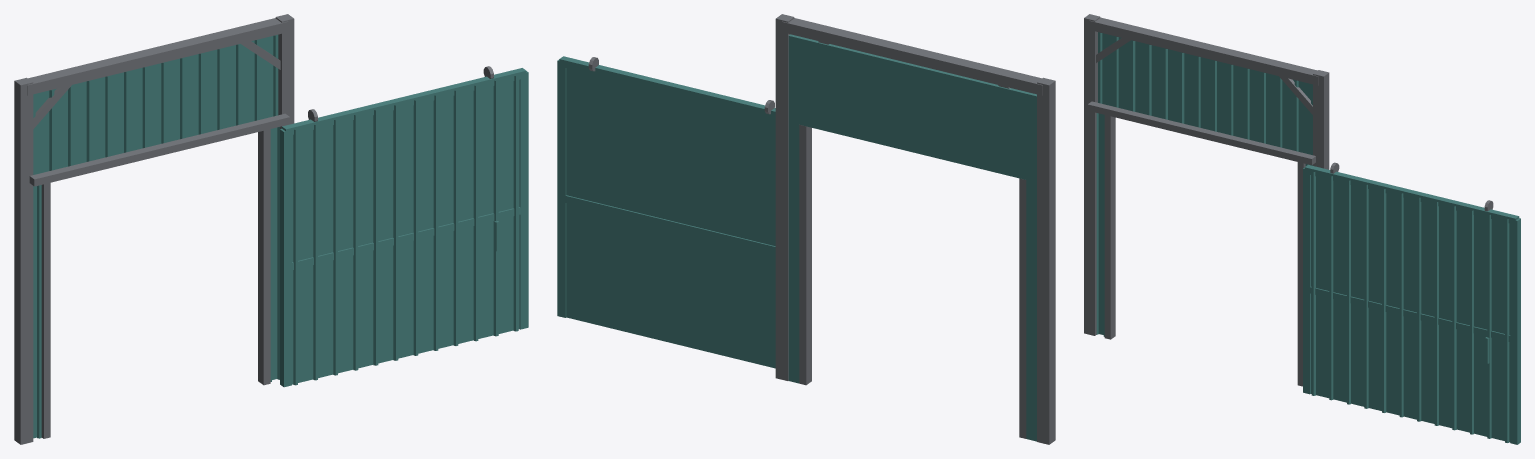
The model's file is steampunk-airship-dock-and-workshop-shed-wall-door-ope-311cbb50.glb.
The picture shows the model from 3 angles, left to right: view 1: azimuth 30°, elevation 25°; view 2: azimuth 150°, elevation 25°; view 3: azimuth 330°, elevation 25°; orthographic projection. The views are drawn at different scales.
Parts seen in each view (by area): view 1: shed-door, shed-wall-door-open; view 2: shed-door, shed-wall-door-open; view 3: shed-door, shed-wall-door-open.
Part boxes in pixels (x1,y1,x2,y2): shed-door: (280, 68, 528, 387); shed-wall-door-open: (14, 14, 294, 444); shed-door: (557, 56, 775, 368); shed-wall-door-open: (775, 14, 1055, 444); shed-door: (1303, 164, 1520, 444); shed-wall-door-open: (1084, 14, 1329, 386).
Size of the model in its own units: 7.29 by 5 by 0.396.
